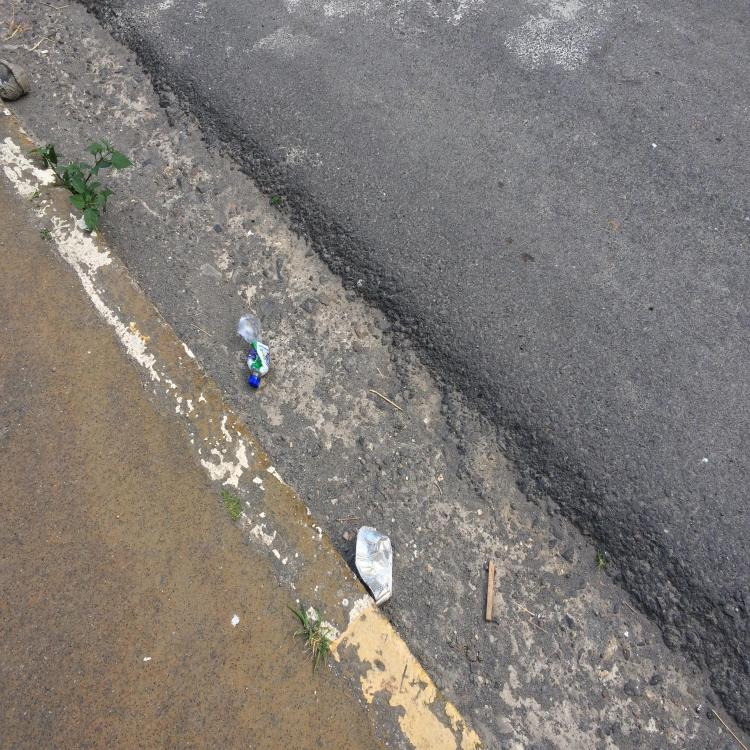Aluminium foil: (355, 525, 392, 606)
Cigarette: (42, 49, 48, 55)
Clear plastic bottle: (237, 314, 269, 387)
Plastic bottle cap: (248, 377, 260, 388)
